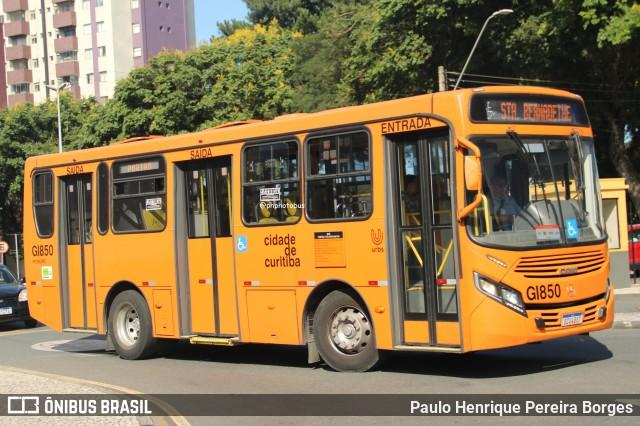STA BERNADETHE: (498, 98, 574, 128)
